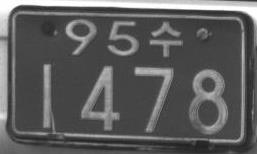1: (30, 64, 66, 128)
4: (80, 65, 120, 131)
5: (106, 20, 140, 57)
7: (134, 65, 174, 132)
8: (187, 69, 229, 136)
9: (64, 17, 97, 55)
수: (149, 21, 182, 57)
